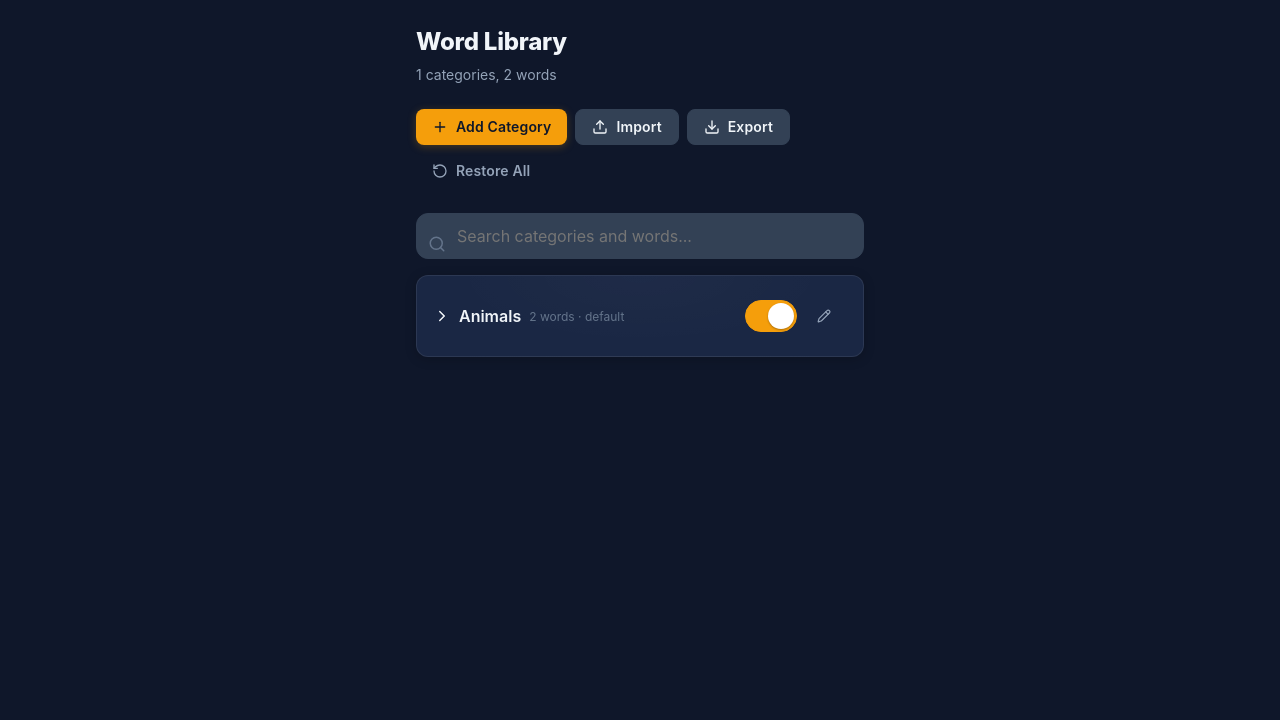
Test: WordLibraryScreen › creates a new category
The width and height of the screenshot is (1280, 720).
Click the button "Add Category": (492, 127) [416,109,567,145]
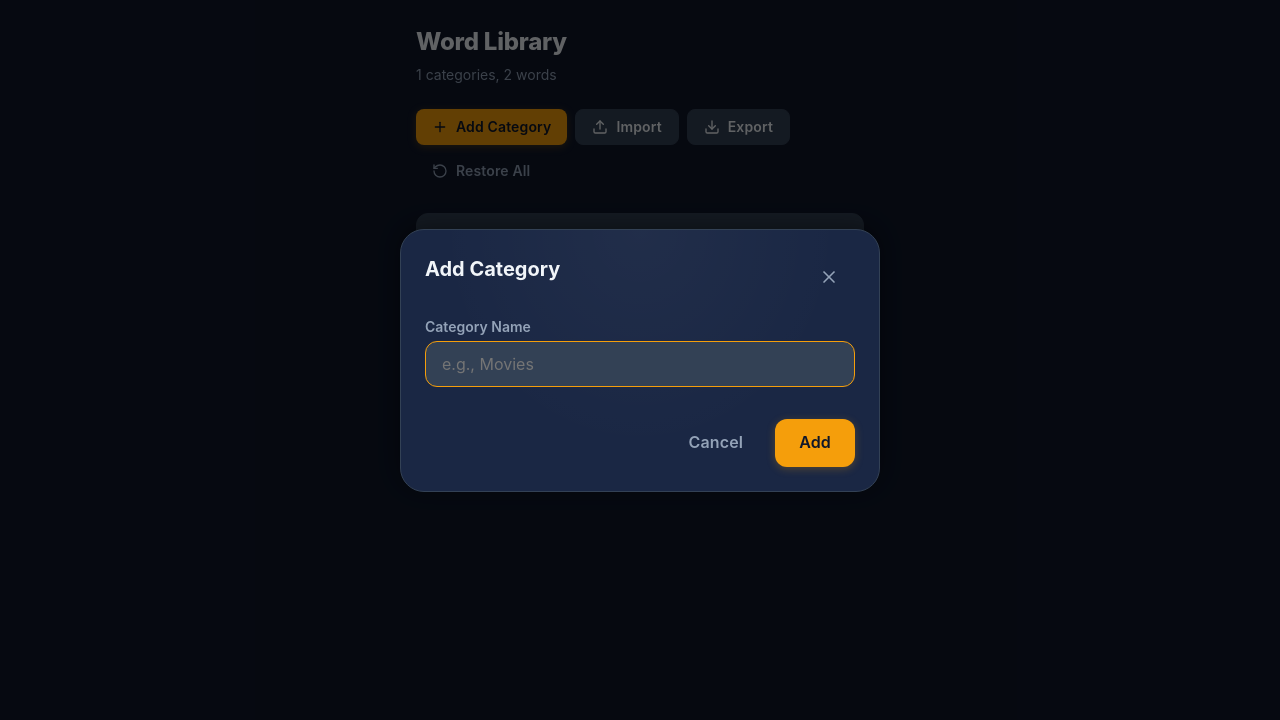
In the field labelled "Category Name": (640, 364) [425,340,855,386], type "Hobbies"
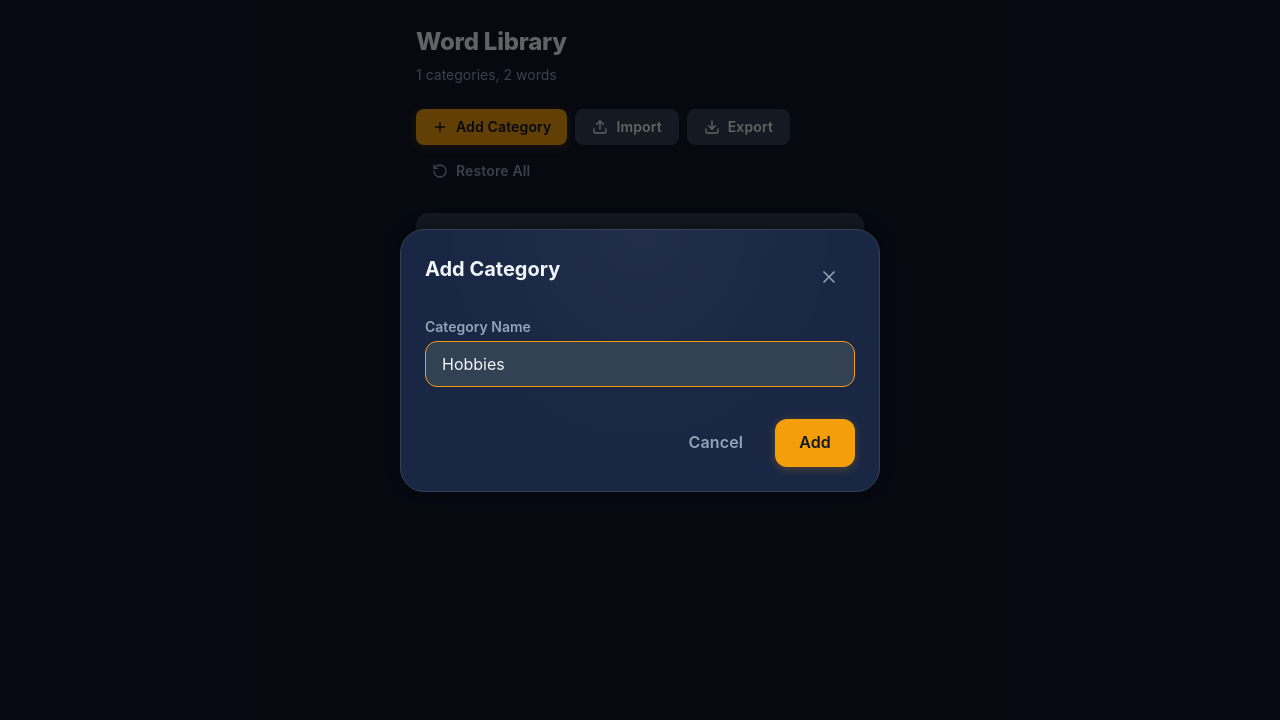
Click the button "Add": (815, 442) [775,418,855,466]
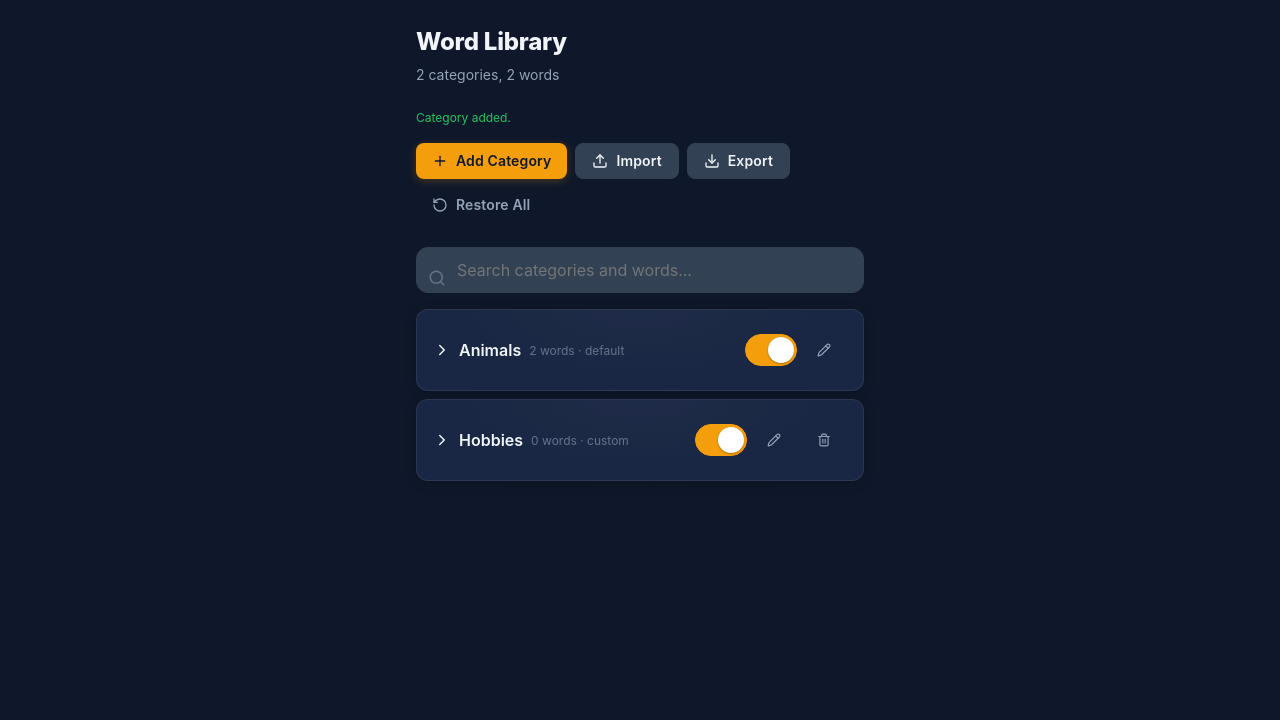
Now the text "Hobbies" is shown, box [459,430,523,450]
Now the text "0 words · custom" is shown, box [531,432,629,448]
